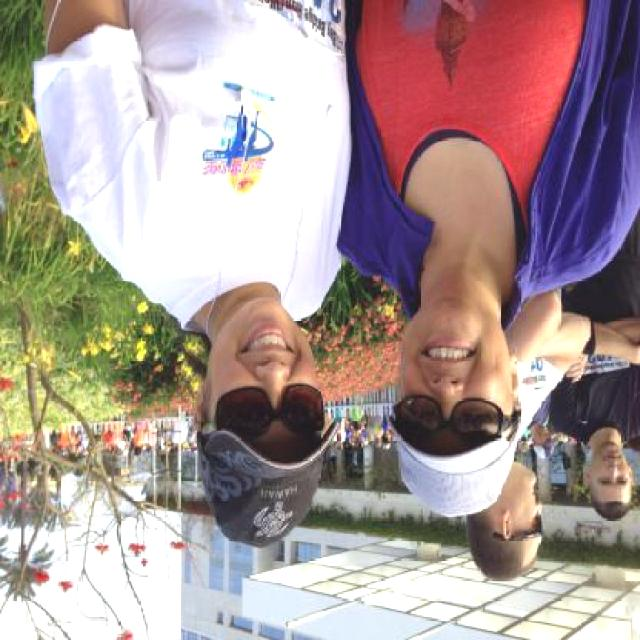face_nomask: (210, 320, 321, 431), (398, 333, 500, 445), (509, 466, 551, 539), (588, 440, 628, 492)
glasses: (386, 389, 512, 449), (207, 382, 325, 442)
head_nohelmet: (192, 437, 339, 545), (394, 446, 526, 517), (464, 551, 547, 589), (589, 497, 636, 526)
person: (25, 0, 350, 565), (346, 0, 640, 534)
